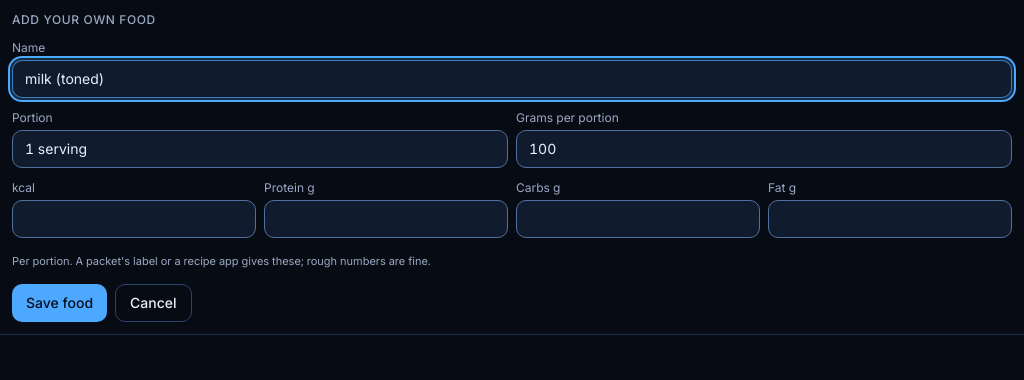
AddFoodForm › shows the sidecar's answer when the name is taken
Step 1. Type "60" into the field labelled "kcal" → (134, 219), box [12, 200, 256, 238]
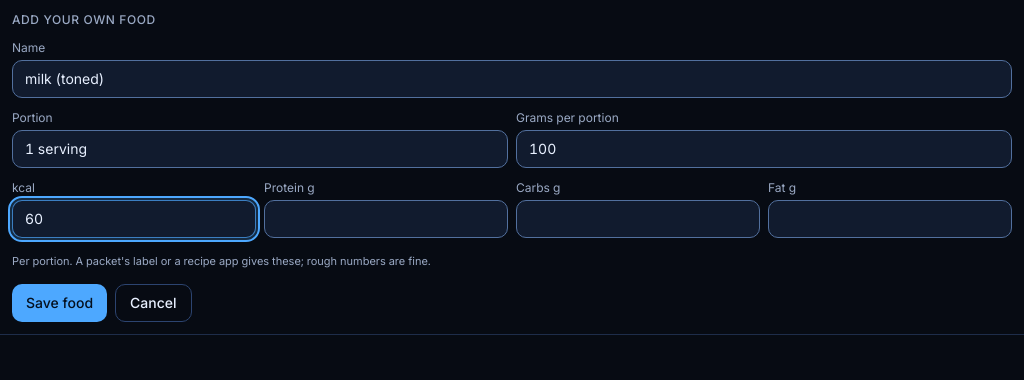
Step 2. Click the button "Save food" → (60, 303), box [12, 284, 107, 322]
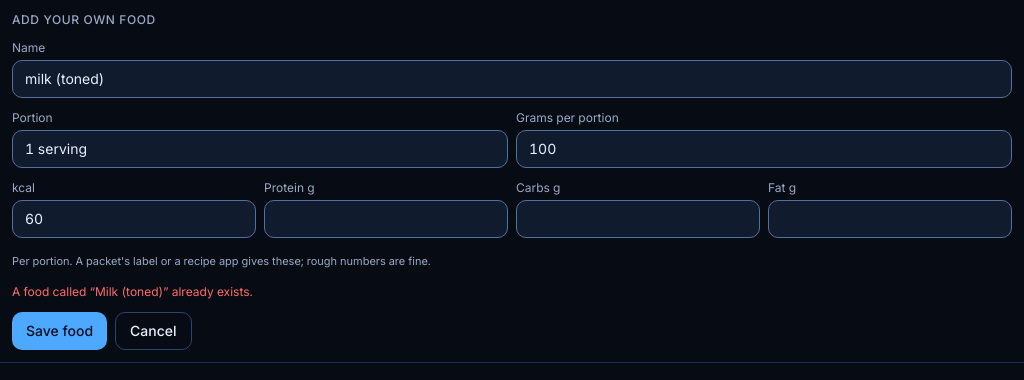
Check: the message shows "already exists", box [12, 284, 253, 299]
